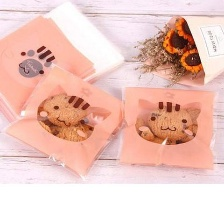snack: (0, 58, 137, 183), (110, 79, 222, 173)
